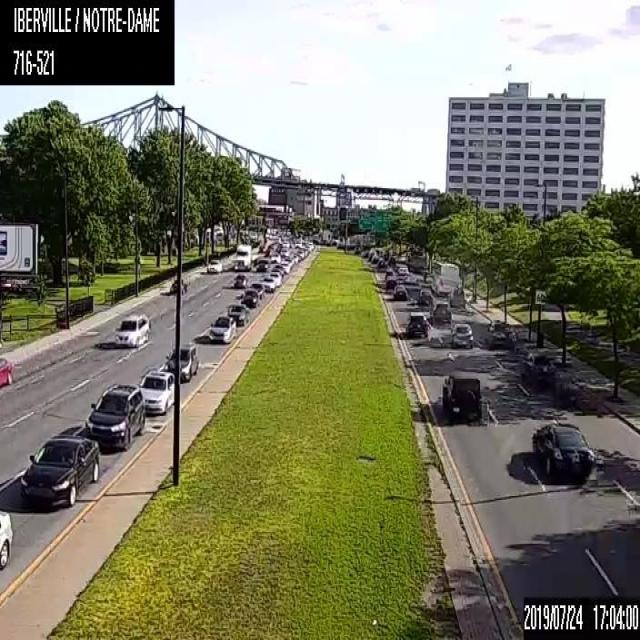bus: (430, 260, 460, 297)
vehicle: (19, 436, 99, 506), (84, 382, 144, 449), (529, 419, 596, 477), (440, 373, 481, 420), (140, 370, 174, 414), (113, 310, 152, 346), (165, 341, 198, 383), (521, 347, 554, 377), (0, 508, 14, 568), (206, 316, 236, 342), (486, 318, 512, 346), (233, 244, 260, 268), (449, 322, 472, 346), (406, 311, 428, 336), (226, 302, 249, 324), (429, 299, 452, 321), (0, 353, 14, 388), (448, 286, 465, 308), (240, 288, 258, 306), (168, 276, 187, 293), (249, 280, 264, 298), (417, 287, 432, 305), (232, 273, 248, 288), (392, 284, 408, 299), (206, 258, 222, 272), (262, 276, 276, 292), (268, 270, 281, 284), (256, 258, 270, 270), (384, 274, 396, 288), (271, 264, 284, 276), (280, 260, 290, 272), (270, 252, 280, 262), (397, 264, 407, 274), (377, 256, 385, 267)
